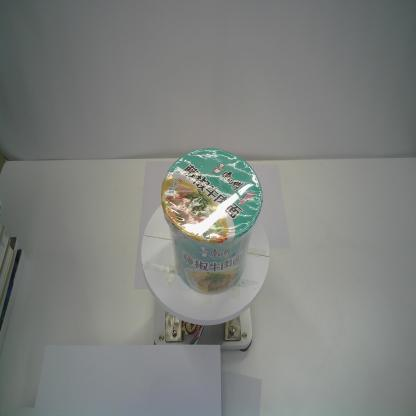Instant Noodles: (158, 146, 265, 297)
